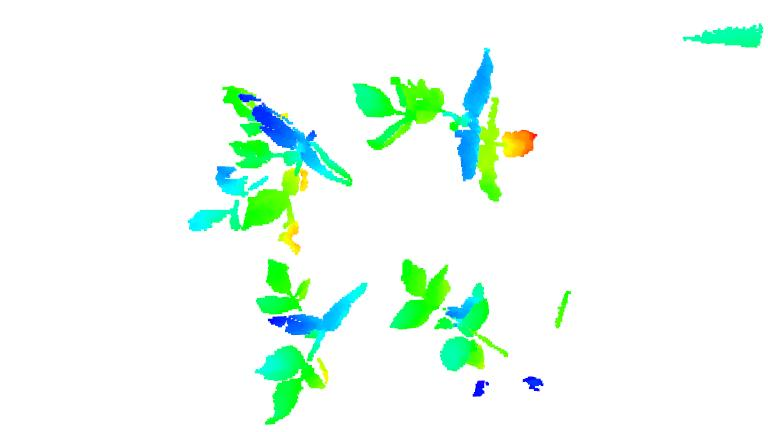mungbean: (182, 82, 353, 256), (352, 46, 540, 203), (247, 256, 374, 428), (390, 256, 513, 372)
